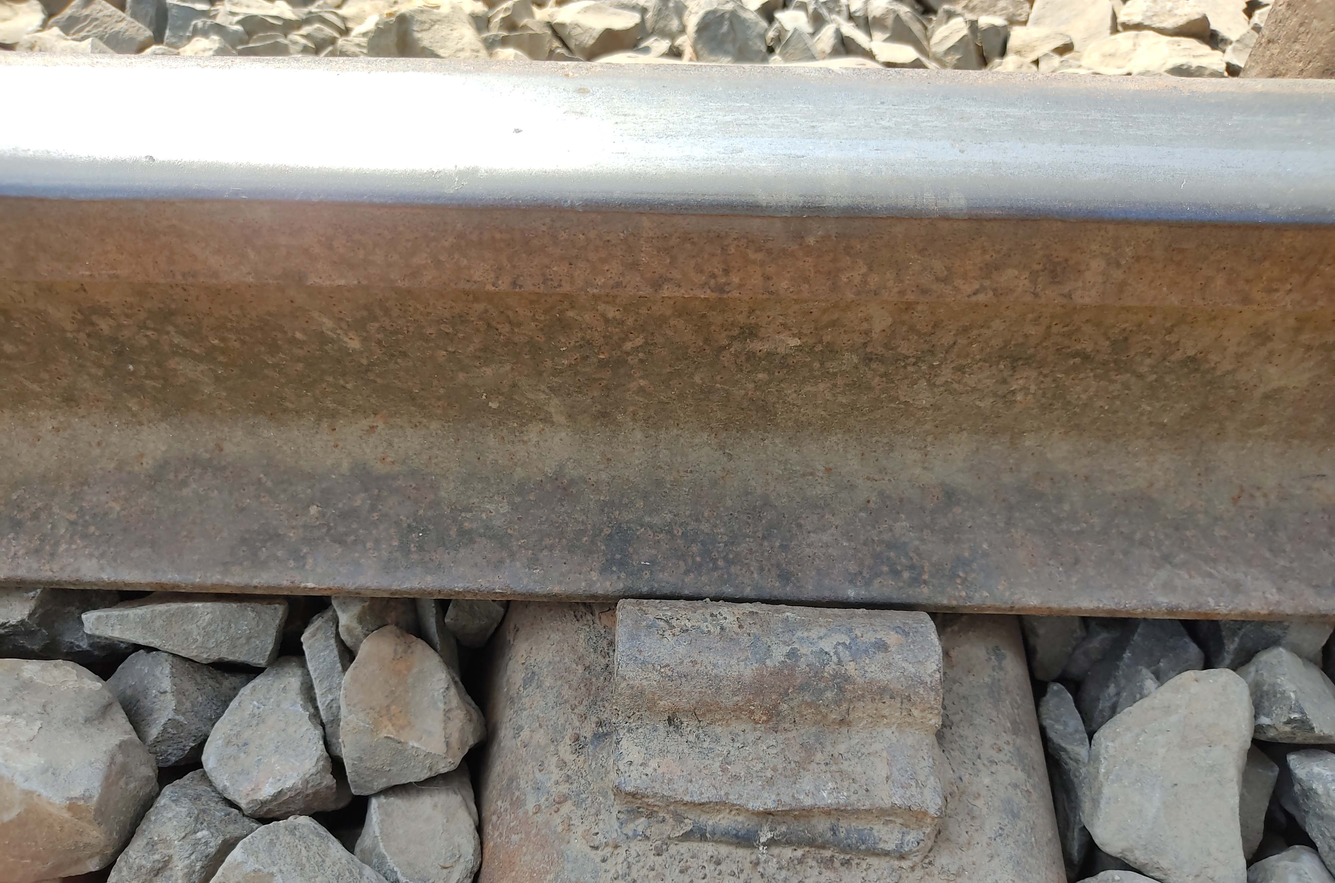loss: (607, 572, 973, 848)
